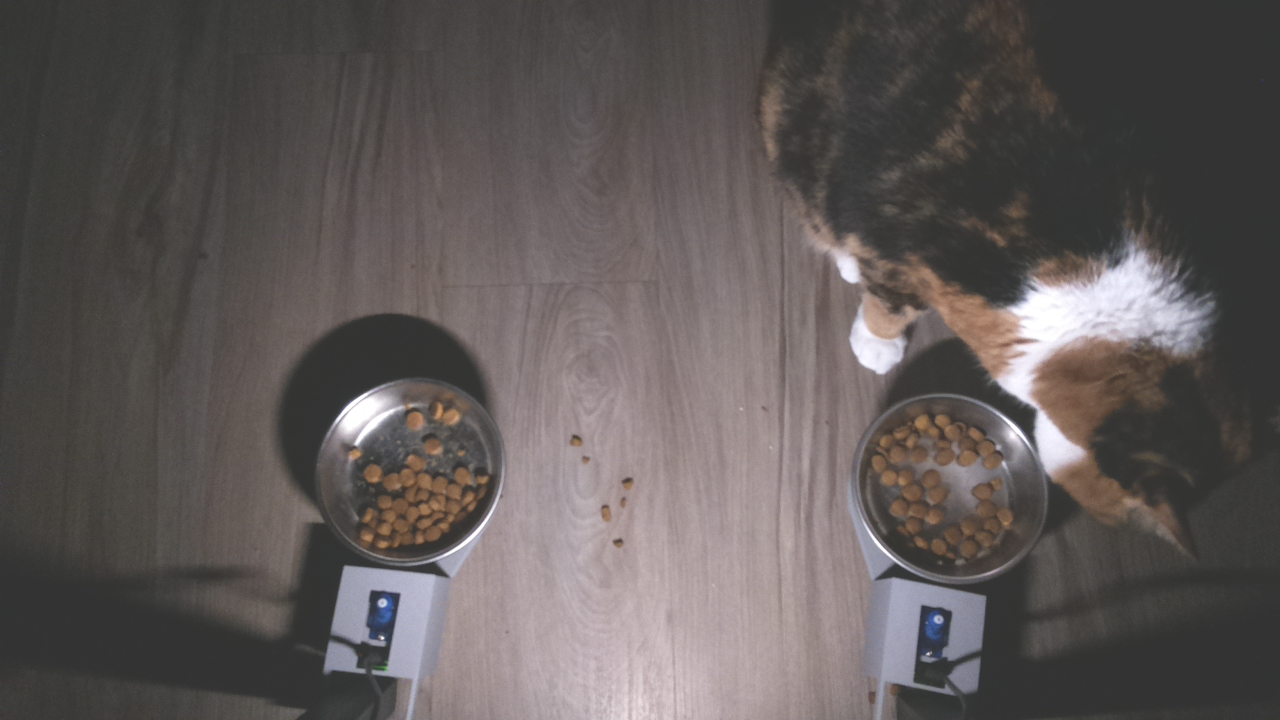bella: (1035, 293, 1280, 540)
open_bowl: (851, 387, 1056, 589), (314, 373, 516, 566)
